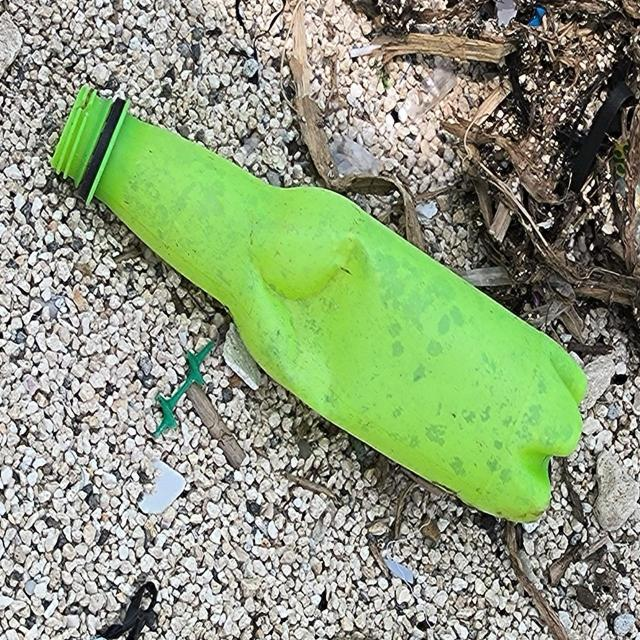litter: (47, 88, 593, 522)
